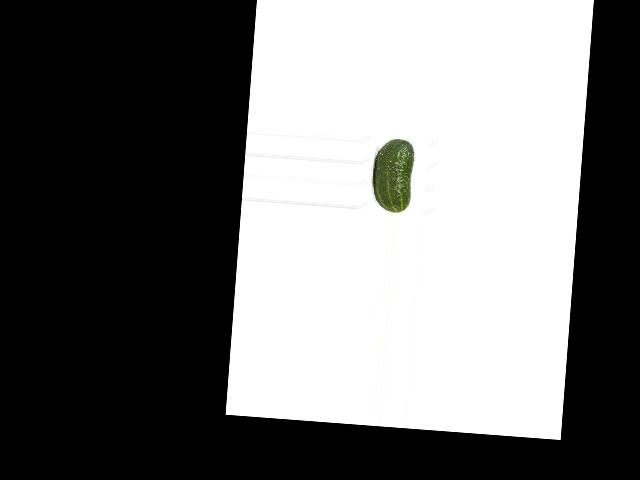cucumber: (370, 137, 414, 213)
